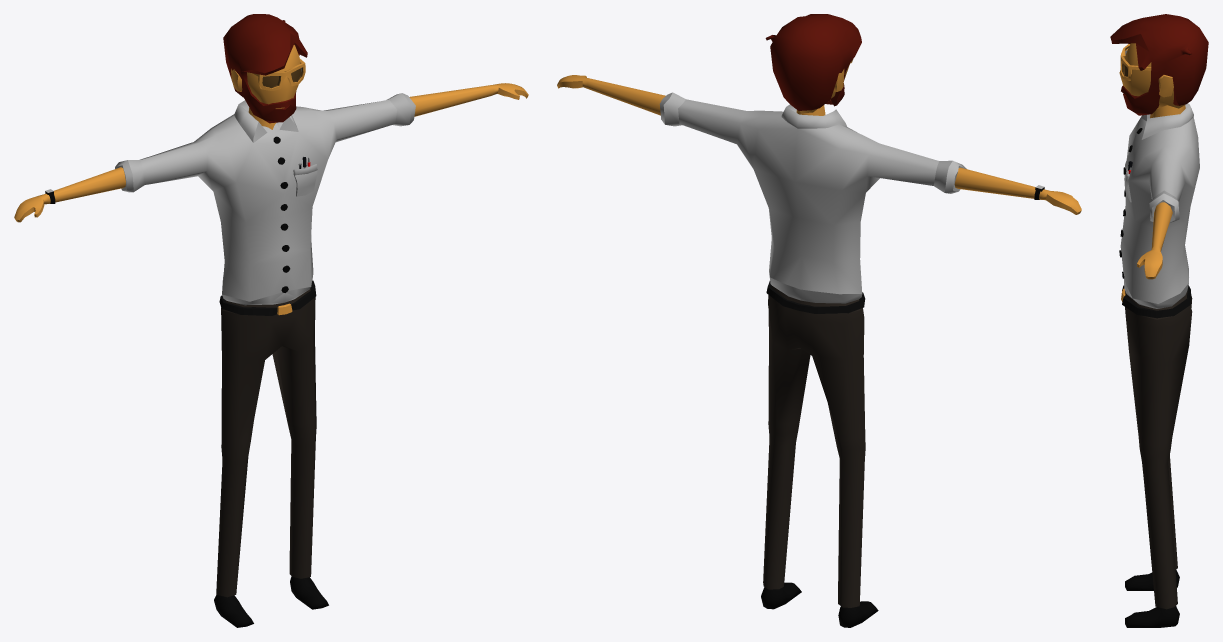
The model's file is Human01.FBX.
3 renders of one model, left to right at view 1: azimuth 30°, elevation 25°; view 2: azimuth 150°, elevation 25°; view 3: azimuth 270°, elevation 25°, orthographic. The views are drawn at different scales.
Parts seen in each view (by area): view 1: Body, Hair, Hands, Shoes, Head, Glasses; view 2: Body, Hair, Hands, Shoes; view 3: Body, Hair, Shoes, Head, Hands, Glasses, Ears.
Boxes of the visible parts, box(x1,y1,x2,y2) form: Body: box(115, 93, 415, 597); Hair: box(223, 14, 307, 123); Hands: box(14, 83, 528, 222); Shoes: box(214, 576, 328, 627); Head: box(247, 45, 300, 129); Glasses: box(253, 58, 305, 90); Body: box(659, 92, 966, 607); Hair: box(765, 14, 861, 110); Hands: box(557, 75, 1081, 214); Shoes: box(761, 582, 878, 627); Body: box(1120, 103, 1199, 609); Hair: box(1110, 14, 1208, 115); Shoes: box(1125, 570, 1179, 627); Head: box(1119, 43, 1185, 118); Hands: box(1137, 202, 1172, 279); Glasses: box(1120, 44, 1151, 80); Ears: box(1158, 75, 1173, 97).
Bounding box in the file's own units: 90.94 × 98.91 × 15.05.
